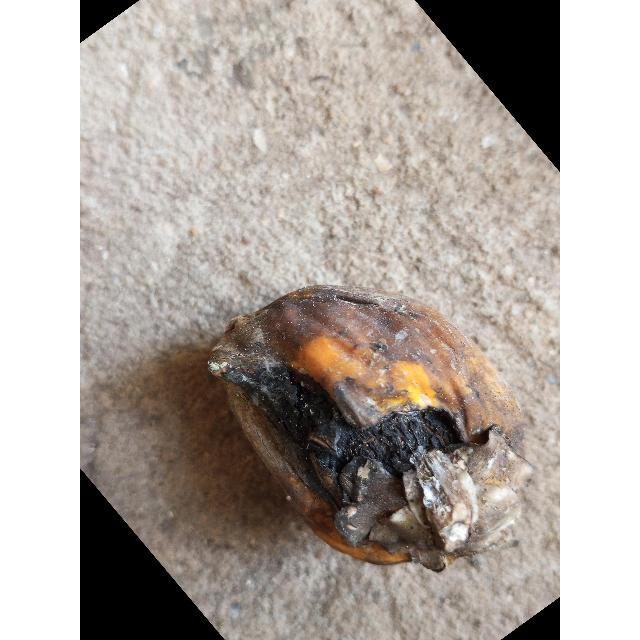damaged: (206, 285, 525, 575)
